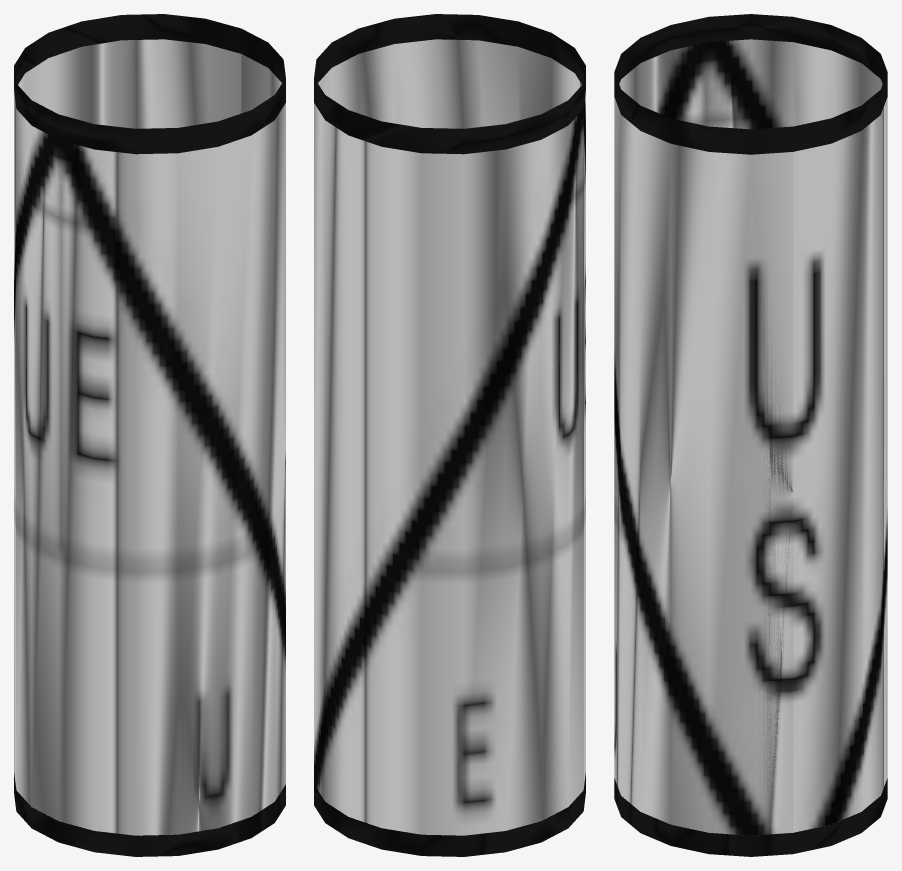
The model's file is JupiterC_Etapa_1.obj.
3 renders of one model, left to right at view 1: azimuth 30°, elevation 25°; view 2: azimuth 150°, elevation 25°; view 3: azimuth 270°, elevation 25°, orthographic.
Visible parts, largest first — view 1: pCylinder1_5, pCylinder1_0; view 2: pCylinder1_5, pCylinder1_0; view 3: pCylinder1_5, pCylinder1_0.
Part boxes in pixels (bbox=[...]): pCylinder1_5: bbox=[14, 39, 285, 835]; pCylinder1_0: bbox=[14, 14, 285, 856]; pCylinder1_5: bbox=[314, 39, 585, 835]; pCylinder1_0: bbox=[314, 14, 585, 856]; pCylinder1_5: bbox=[614, 39, 887, 835]; pCylinder1_0: bbox=[614, 14, 887, 856].
Bounding box in the file's own units: 6.03 × 17.74 × 6.03.
